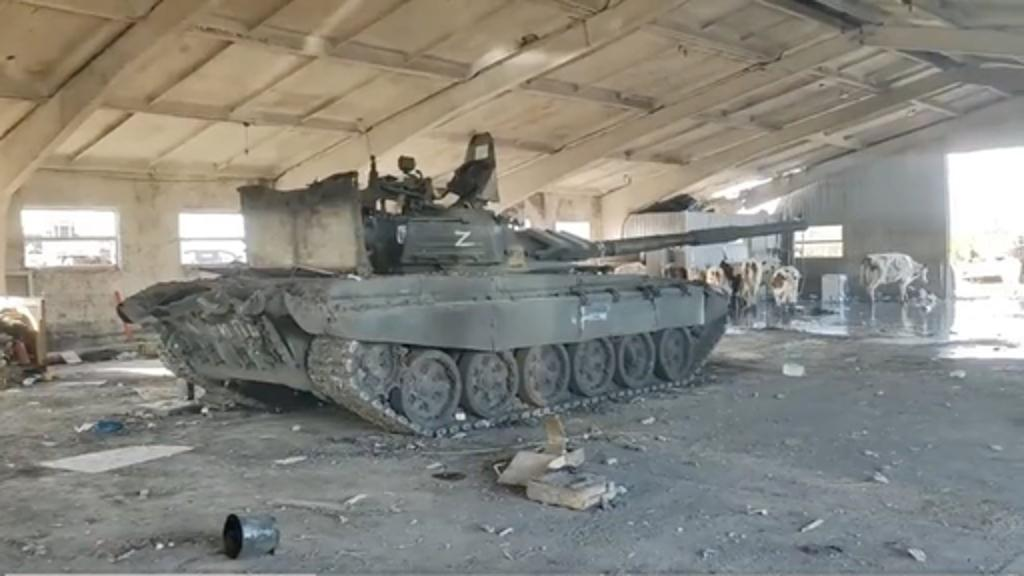TANK: (126, 168, 808, 456)
